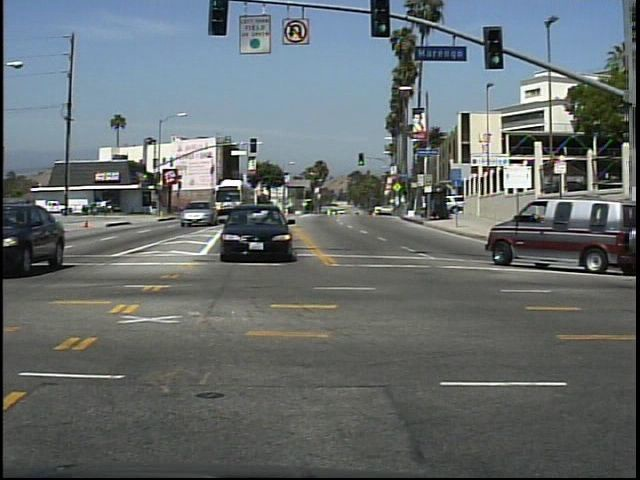person: (21, 195, 37, 223)
